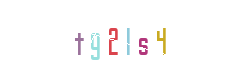2: (72, 0, 152, 80)
4: (122, 0, 202, 80)
G: (67, 0, 147, 80)
L: (85, 0, 165, 80)
S: (103, 0, 183, 80)
T: (58, 0, 138, 80)
